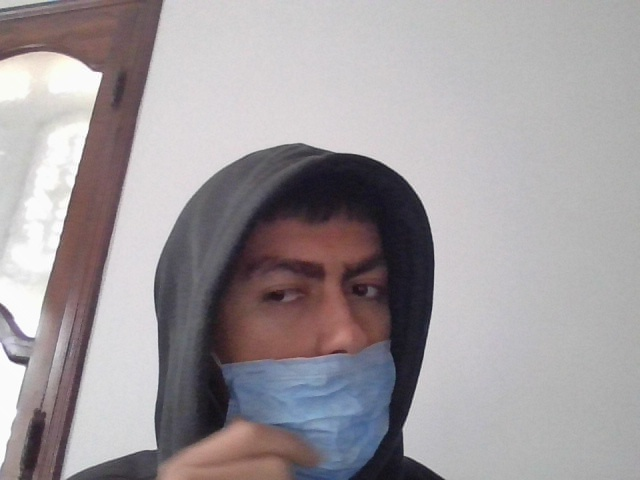mask_weared_incorrect: (194, 179, 410, 479)
